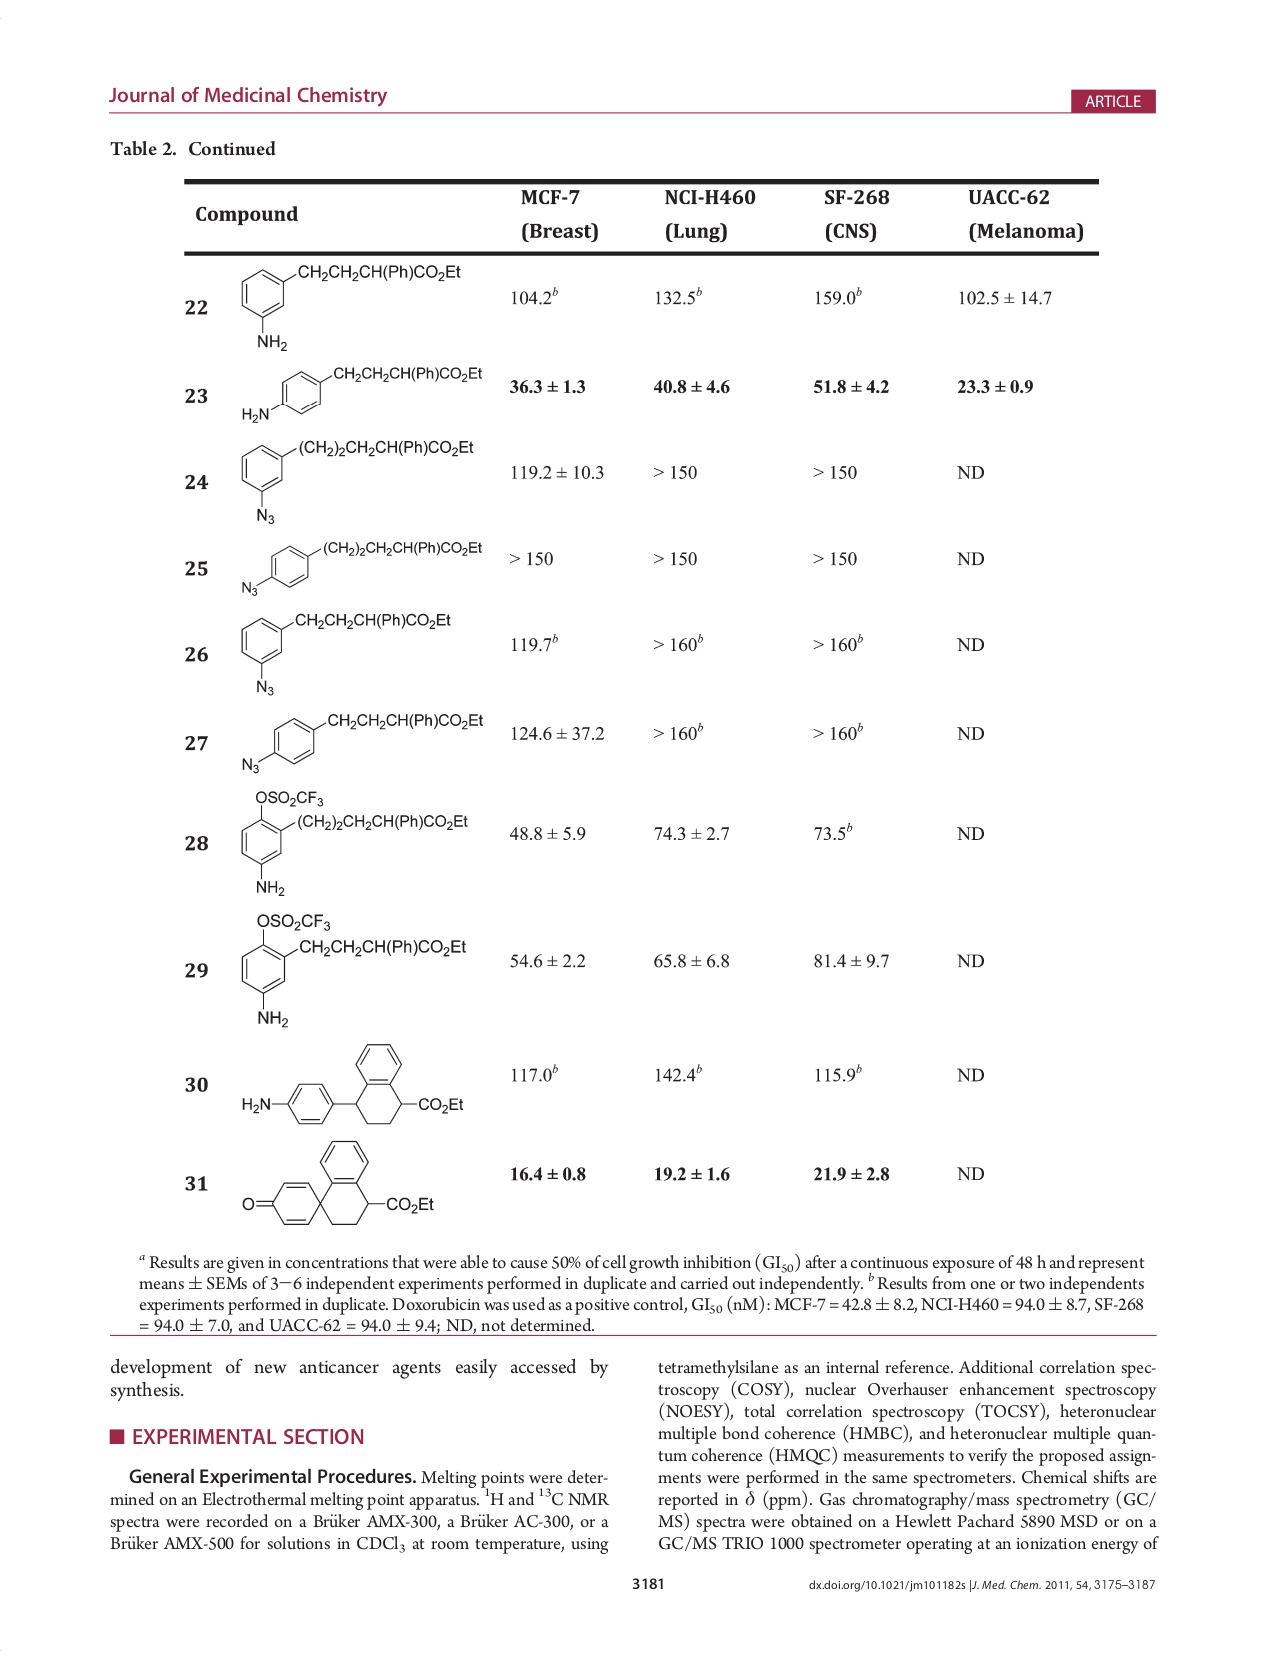exist_molecular: (235, 903, 472, 1032), (235, 785, 473, 898), (238, 426, 477, 524), (233, 259, 465, 352), (234, 605, 456, 701), (237, 1128, 438, 1231), (238, 1039, 467, 1128), (239, 352, 487, 430), (239, 707, 488, 777), (235, 532, 485, 597)
